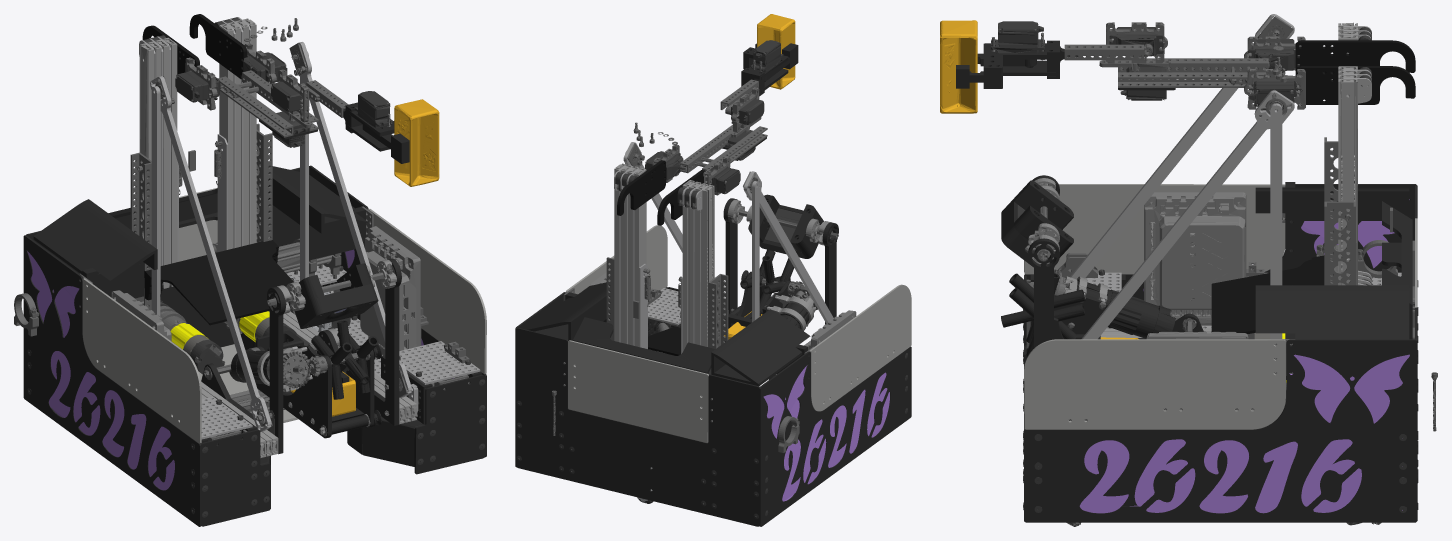
The model's file is purple-emperor.glb.
The picture shows the model from 3 angles, left to right: view 1: azimuth 30°, elevation 25°; view 2: azimuth 150°, elevation 25°; view 3: azimuth 270°, elevation 25°; orthographic projection. The views are drawn at different scales.
Visible parts, largest first — view 1: Body1; view 2: Body1; view 3: Body1.
Part boxes in pixels (<box>): Body1: <box>14,14,486,526</box>; Body1: <box>515,14,911,526</box>; Body1: <box>940,14,1437,526</box>.
Bounding box in the file's own units: 0.3974 × 0.5085 × 0.5025.
1 material, 1 textured.
